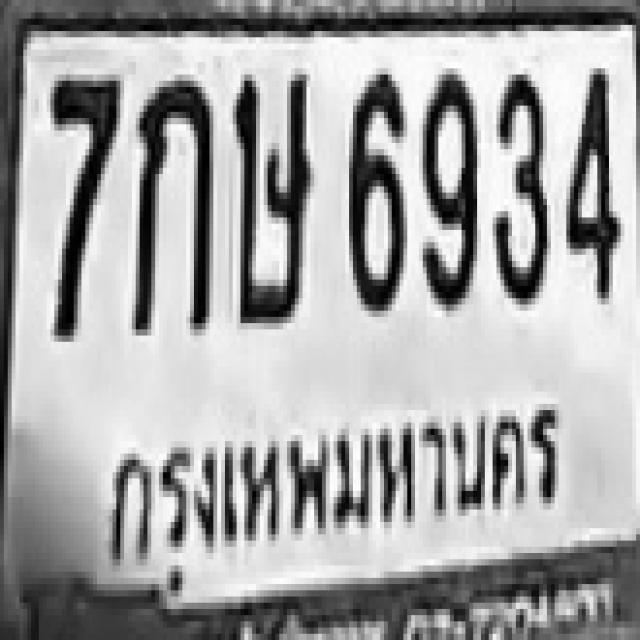10GorGai: (128, 74, 209, 330)
3: (489, 69, 547, 298)
4: (562, 62, 617, 298)
48SorRueSi: (231, 68, 308, 323)
6: (346, 68, 404, 311)
7: (51, 74, 120, 336)
9: (419, 68, 473, 304)
Bangkok: (92, 408, 573, 573)
